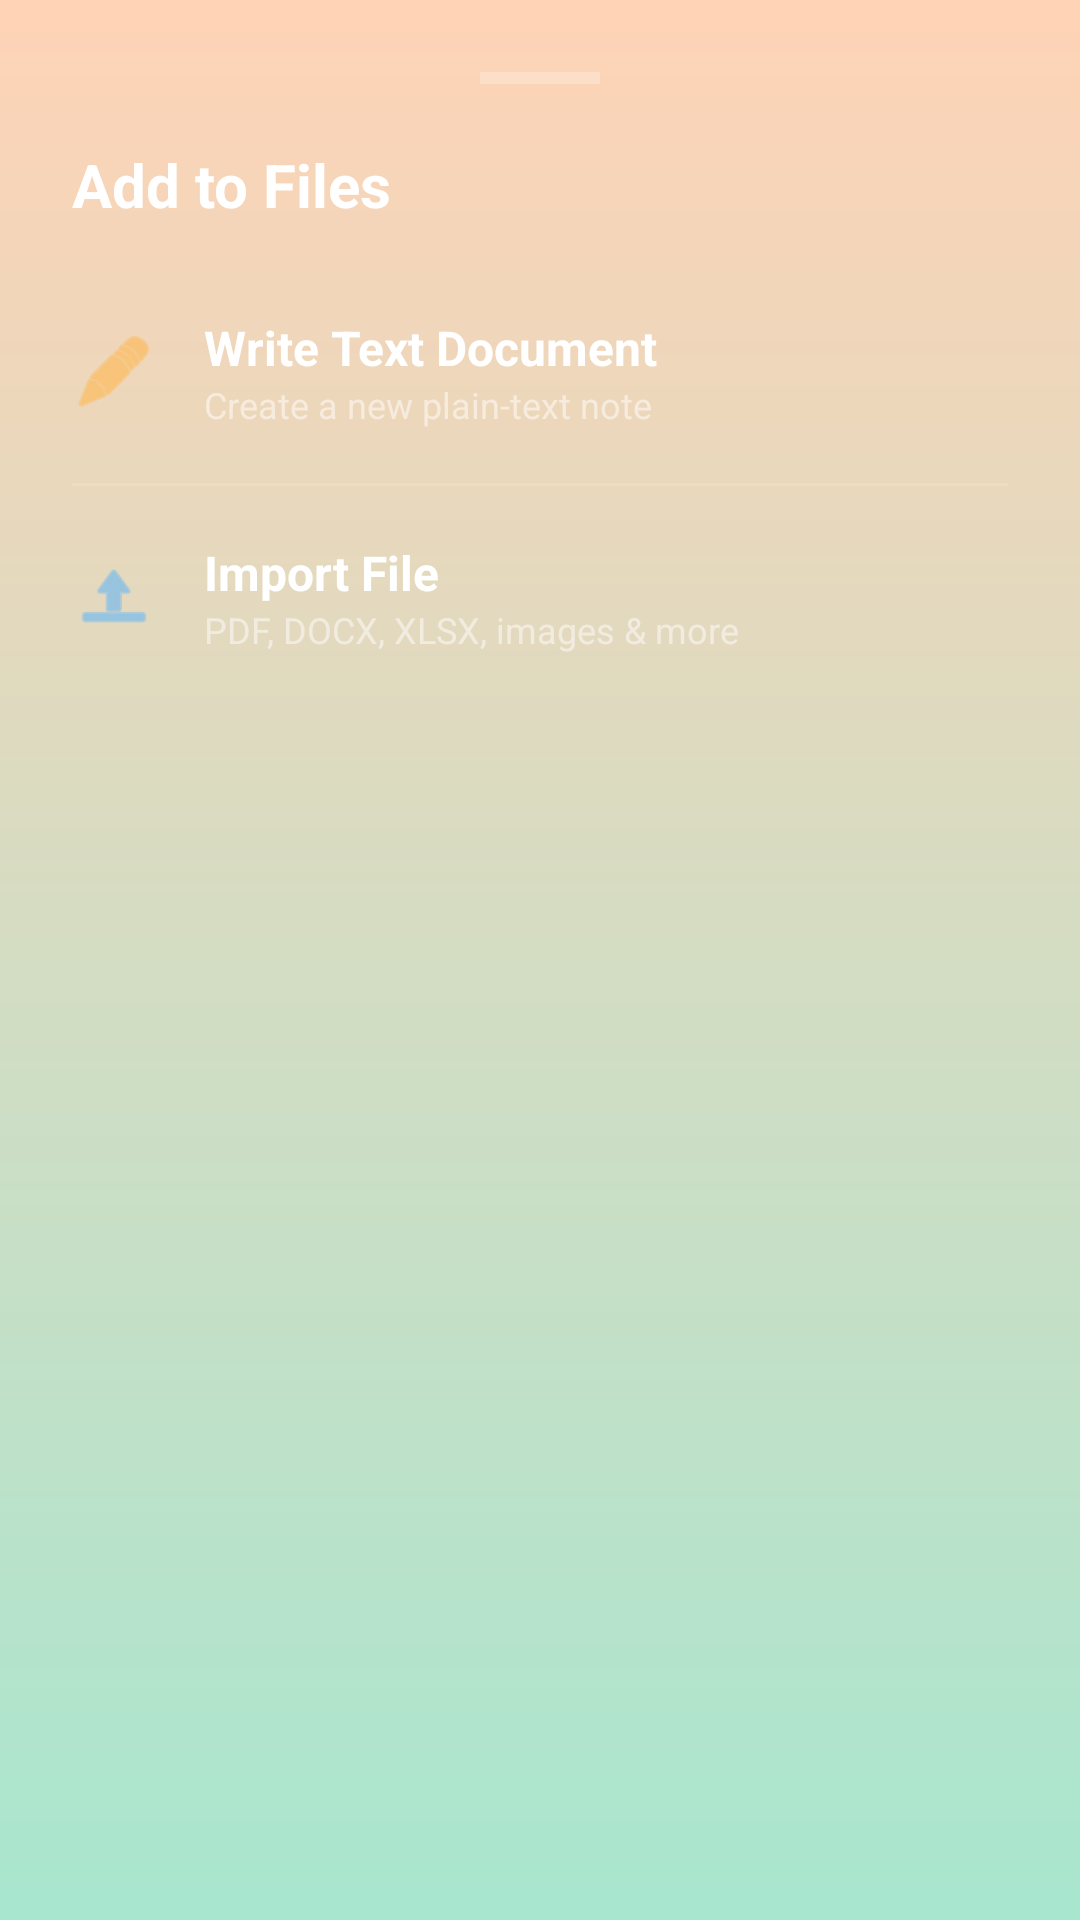

Icons on this 1080w x 1920h Android screen, each with the point to tap as point (x, y):
edit: point (114, 371)
upload: point (114, 595)
